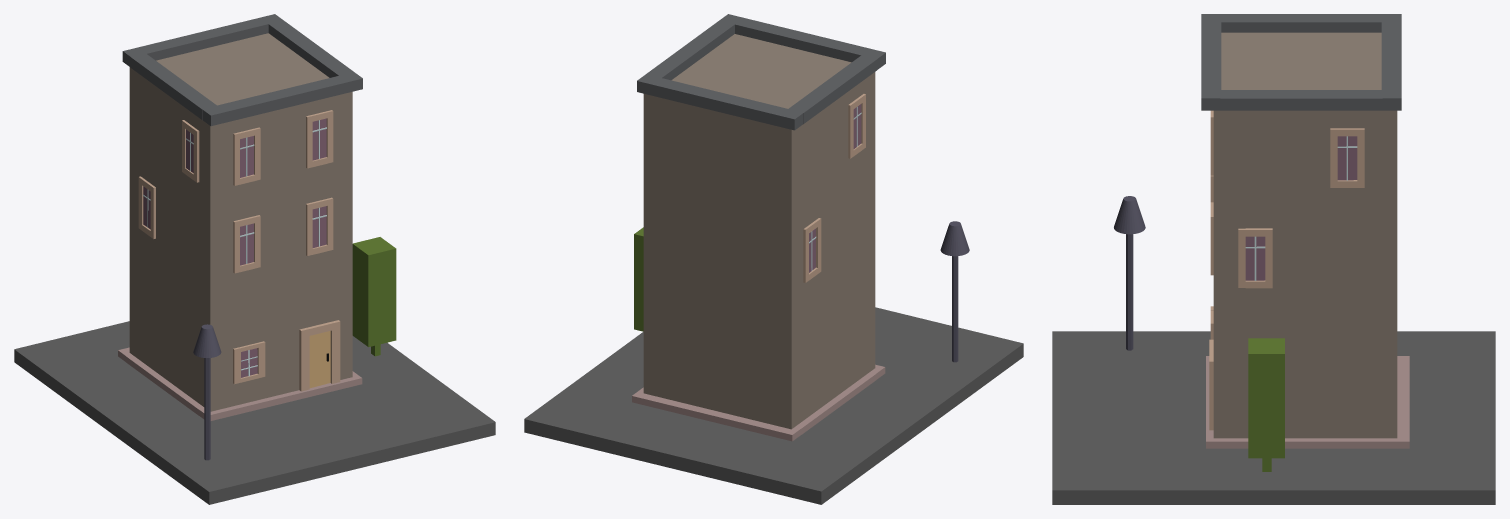
The picture shows the model from 3 angles, left to right: view 1: azimuth 30°, elevation 25°; view 2: azimuth 150°, elevation 25°; view 3: azimuth 270°, elevation 25°; orthographic projection. The views are drawn at different scales.
Visible parts, largest first — view 1: Cube.117_2, Cube.129_5, Cube.120_3, Cube.002_9, Cube.127_4, Cube.131_6, Cube.018_14, Cube.013_12, Cube.014_13, Cube.009_11, Cube.034_18, Cube.022_15 (+5 smaller); view 2: Cube.117_2, Cube.129_5, Cube.120_3, Cube.127_4, Cube.002_9, Cube.022_15, Cone.001_8, Cone.016_7, Cube.001_10; view 3: Cube.117_2, Cube.129_5, Cube.120_3, Cube.002_9, Cube.127_4, Cube.030_17, Cube.005_25, Cone.001_8, Plane.017_0, Cone.016_7, Plane.009_31.
Boxes of the visible parts, box(x1,y1,x2,y2) form: Cube.117_2: box(129, 33, 352, 411); Cube.129_5: box(14, 321, 495, 504); Cube.120_3: box(122, 14, 362, 126); Cube.002_9: box(352, 237, 396, 356); Cube.127_4: box(118, 347, 362, 420); Cube.131_6: box(299, 320, 340, 391); Cube.018_14: box(306, 197, 333, 255); Cube.013_12: box(306, 110, 333, 168); Cube.014_13: box(233, 215, 260, 273); Cube.009_11: box(233, 127, 260, 185); Cube.034_18: box(233, 341, 265, 384); Cube.022_15: box(138, 176, 155, 238); Cube.117_2: box(643, 34, 875, 429); Cube.129_5: box(524, 307, 1023, 504); Cube.120_3: box(637, 14, 885, 130); Cube.127_4: box(632, 364, 885, 441); Cube.002_9: box(634, 227, 643, 331); Cube.022_15: box(803, 218, 821, 282); Cone.001_8: box(952, 256, 958, 362); Cone.016_7: box(940, 221, 969, 256); Cube.001_10: box(848, 94, 865, 158); Cube.117_2: box(1213, 32, 1397, 438); Cube.129_5: box(1052, 331, 1495, 504); Cube.120_3: box(1201, 14, 1401, 110); Cube.002_9: box(1248, 338, 1284, 471); Cube.127_4: box(1206, 356, 1409, 448); Cube.030_17: box(1330, 128, 1364, 187); Cube.005_25: box(1238, 228, 1272, 288); Cone.001_8: box(1126, 234, 1133, 350); Plane.017_0: box(1245, 236, 1265, 280); Cone.016_7: box(1114, 196, 1145, 234); Plane.009_31: box(1337, 136, 1357, 180).
Size of the model in its own units: 40.26 by 43.62 by 47.45.
